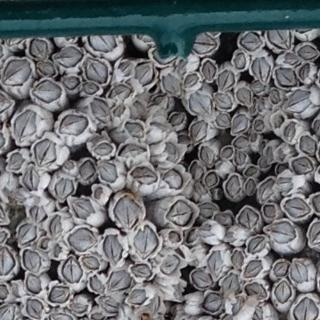Barnacle: (131, 227, 159, 278), (1, 61, 34, 90), (69, 227, 98, 255), (113, 197, 139, 228), (91, 30, 119, 58), (30, 80, 61, 105), (252, 55, 272, 93), (267, 220, 297, 244), (33, 142, 57, 172), (57, 113, 85, 137), (168, 202, 195, 225), (16, 110, 36, 140), (63, 254, 82, 285), (131, 170, 160, 190), (86, 61, 110, 85), (293, 297, 318, 320), (88, 99, 111, 124), (54, 47, 84, 66), (104, 234, 124, 262), (194, 31, 218, 54), (267, 28, 292, 50), (288, 157, 315, 177), (109, 267, 130, 292), (284, 198, 311, 217), (289, 90, 311, 113), (206, 249, 223, 278), (121, 143, 148, 161), (240, 31, 262, 53), (202, 291, 223, 314), (21, 248, 42, 271), (136, 63, 157, 86), (17, 225, 39, 246), (191, 93, 212, 115), (276, 67, 298, 88), (221, 272, 241, 295), (190, 118, 209, 142), (274, 279, 292, 304), (0, 247, 15, 277), (24, 297, 45, 318), (79, 157, 97, 181), (238, 208, 259, 228), (109, 86, 132, 104), (246, 236, 267, 255), (72, 201, 91, 222), (48, 287, 70, 305), (245, 282, 267, 300), (161, 255, 179, 277), (128, 289, 148, 308), (151, 95, 171, 114), (191, 270, 212, 288), (29, 203, 47, 224), (198, 201, 219, 219), (299, 135, 317, 156), (297, 44, 319, 61), (23, 170, 39, 193), (31, 39, 49, 59), (291, 260, 308, 281), (244, 260, 263, 278), (57, 179, 75, 198), (167, 170, 186, 188), (95, 140, 114, 158), (161, 76, 180, 94), (225, 177, 240, 199), (219, 67, 234, 89), (24, 275, 42, 293), (124, 122, 142, 140), (101, 164, 120, 181), (8, 151, 25, 170), (149, 122, 165, 142), (50, 215, 65, 236), (308, 220, 320, 246), (200, 144, 216, 163), (278, 173, 293, 193), (236, 87, 251, 107), (102, 296, 119, 313), (215, 94, 232, 111), (273, 261, 291, 277), (189, 160, 205, 178), (214, 212, 233, 227), (260, 181, 275, 200), (163, 142, 178, 161), (213, 113, 229, 130), (234, 115, 249, 133), (89, 274, 103, 293), (202, 62, 216, 81), (198, 223, 215, 238), (84, 255, 102, 269), (285, 122, 299, 140), (232, 295, 245, 314), (0, 305, 16, 320), (252, 304, 267, 320), (63, 74, 79, 89), (175, 135, 191, 149), (283, 53, 300, 66), (232, 251, 244, 269), (204, 173, 218, 188), (184, 74, 197, 90), (73, 300, 87, 314), (235, 136, 249, 150), (38, 61, 52, 75), (299, 63, 311, 79), (172, 112, 186, 125), (120, 60, 133, 74), (60, 156, 75, 168), (263, 205, 276, 218), (235, 53, 247, 67), (225, 231, 237, 244), (221, 146, 234, 158), (93, 185, 104, 199), (273, 114, 284, 128), (84, 83, 98, 94), (91, 309, 104, 320), (0, 286, 10, 300), (313, 119, 320, 139), (245, 181, 254, 196), (266, 146, 274, 162), (270, 90, 279, 104), (115, 106, 126, 117), (235, 153, 245, 165), (257, 99, 267, 111), (254, 120, 264, 131), (244, 167, 256, 176), (259, 159, 268, 169), (258, 142, 266, 152), (277, 150, 284, 161), (251, 133, 257, 141), (113, 182, 114, 183), (132, 180, 133, 181), (291, 121, 292, 122), (24, 111, 25, 112)
